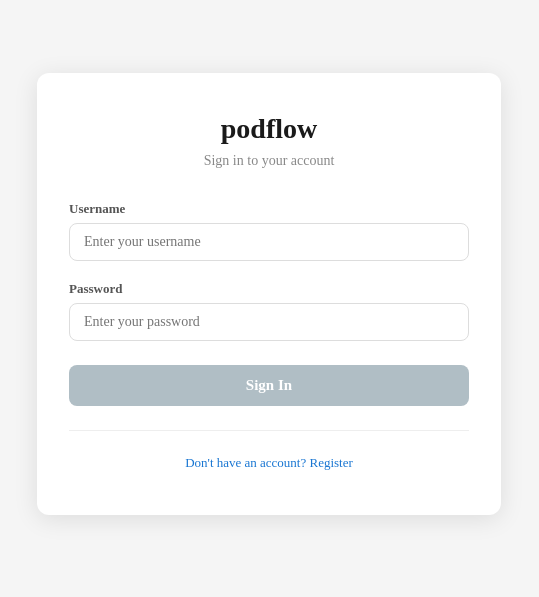
Test: LoginPage › toggles back to login mode
The width and height of the screenshot is (539, 597).
Click the button "Don't have an account? Register".
click(269, 463)  # box [181, 451, 357, 475]
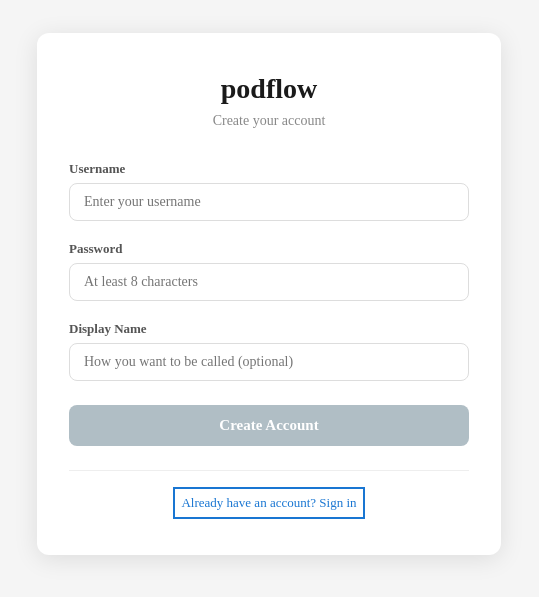
Click the button "Already have an account? Sign in".
click(269, 503)  # box [178, 491, 361, 515]
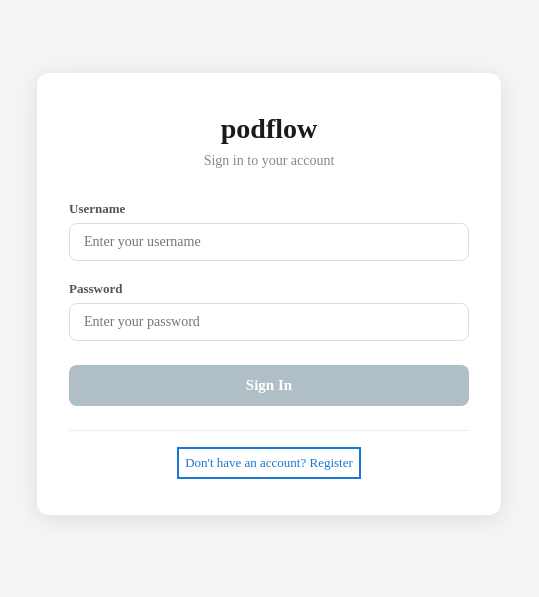
Expected: the text "Sign in to your account" is shown, [204, 153, 334, 168]
